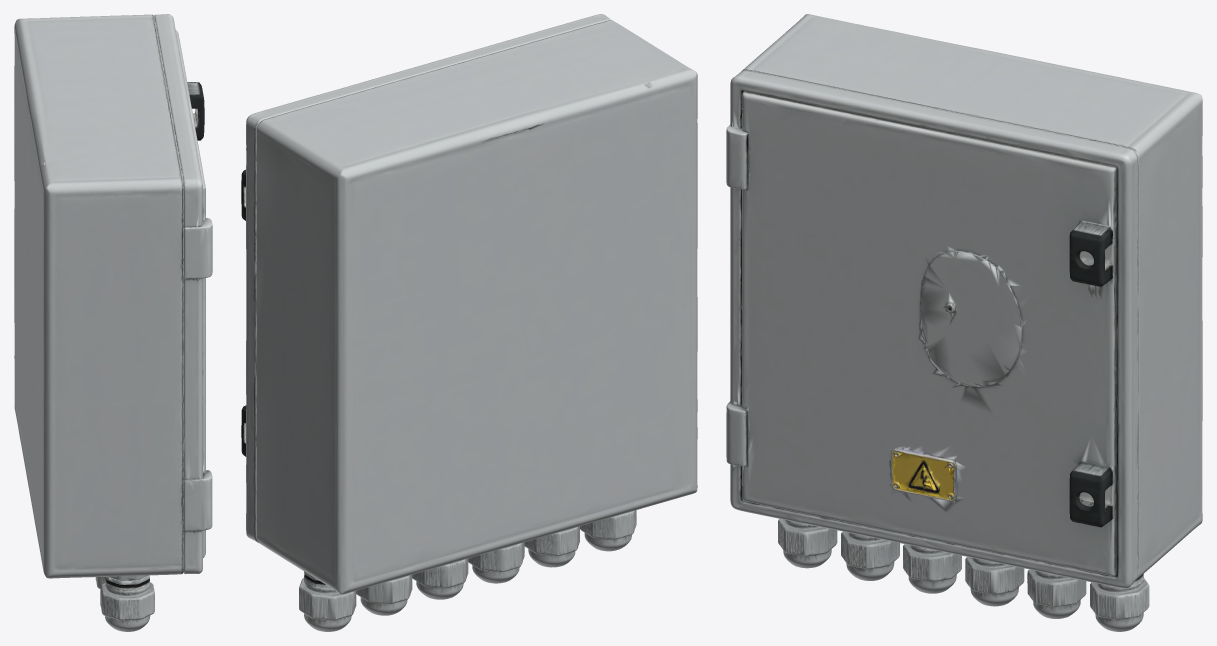
File: combiner.glb
3 views of the same model, side by side, from view 1: azimuth 30°, elevation 25°; view 2: azimuth 150°, elevation 25°; view 3: azimuth 270°, elevation 25° (orthographic). The views are drawn at different scales.
Visible parts, largest first — view 1: tripo_node_5be7249f-05d3-4d8f-9d7c-c894a66429ea; view 2: tripo_node_5be7249f-05d3-4d8f-9d7c-c894a66429ea; view 3: tripo_node_5be7249f-05d3-4d8f-9d7c-c894a66429ea.
Part boxes in pixels (x1,y1,x2,y2): tripo_node_5be7249f-05d3-4d8f-9d7c-c894a66429ea: (14,14,212,631); tripo_node_5be7249f-05d3-4d8f-9d7c-c894a66429ea: (241,14,697,631); tripo_node_5be7249f-05d3-4d8f-9d7c-c894a66429ea: (726,14,1202,631).
Bounding box in the file's own units: 21117 × 32115 × 27317.
Materials: 1 (1 with a texture image).
